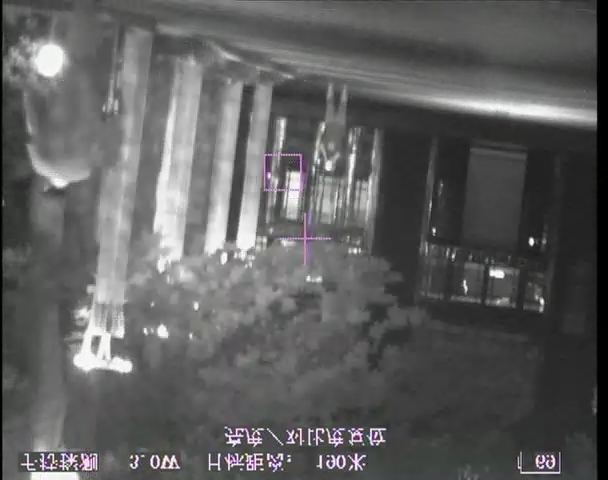my: (324, 159, 334, 171)
